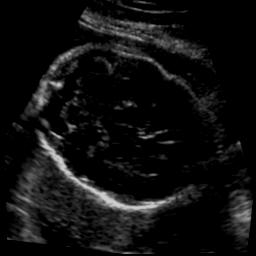abnormal: (18, 31, 241, 227)
